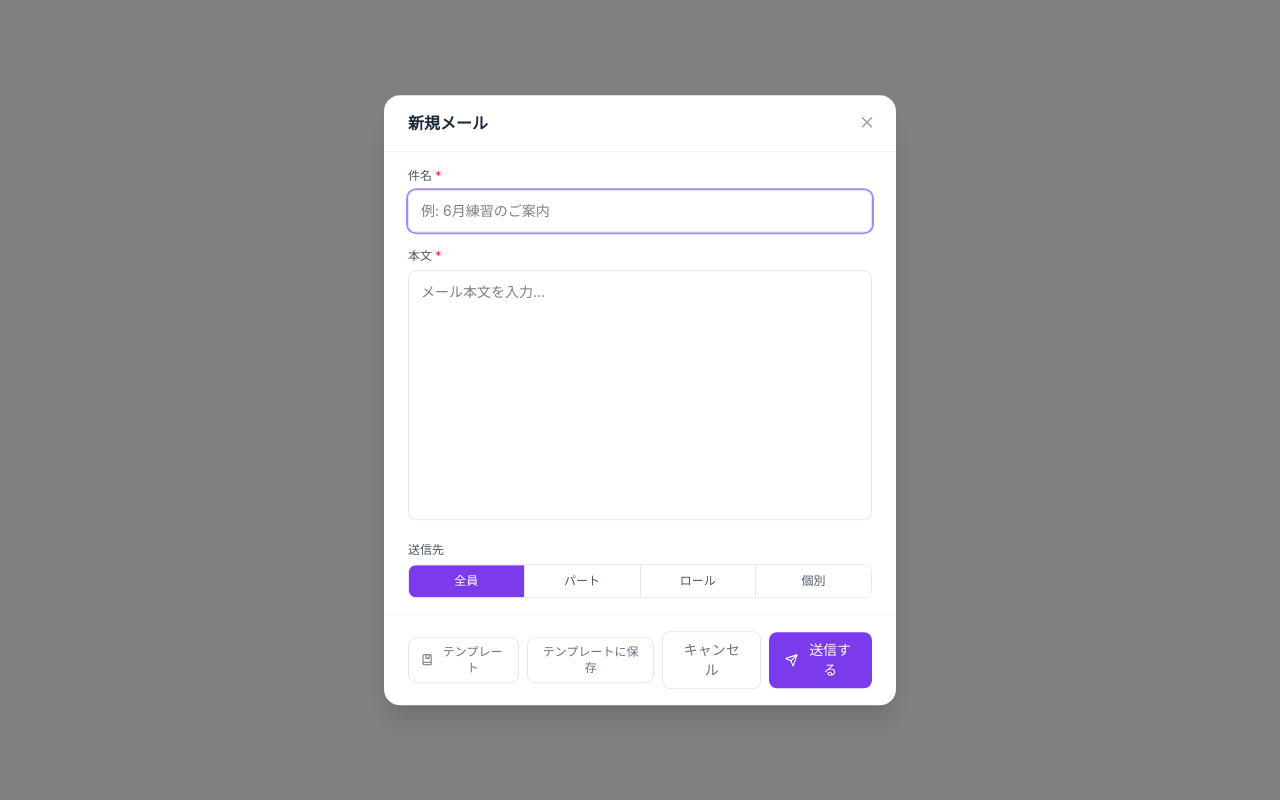
Test case: ComposeModal（テンプレートパネル） › 「テンプレート」ボタンクリックでパネルを開閉する
Click the button "テンプレート": (464, 660) [408, 637, 519, 683]
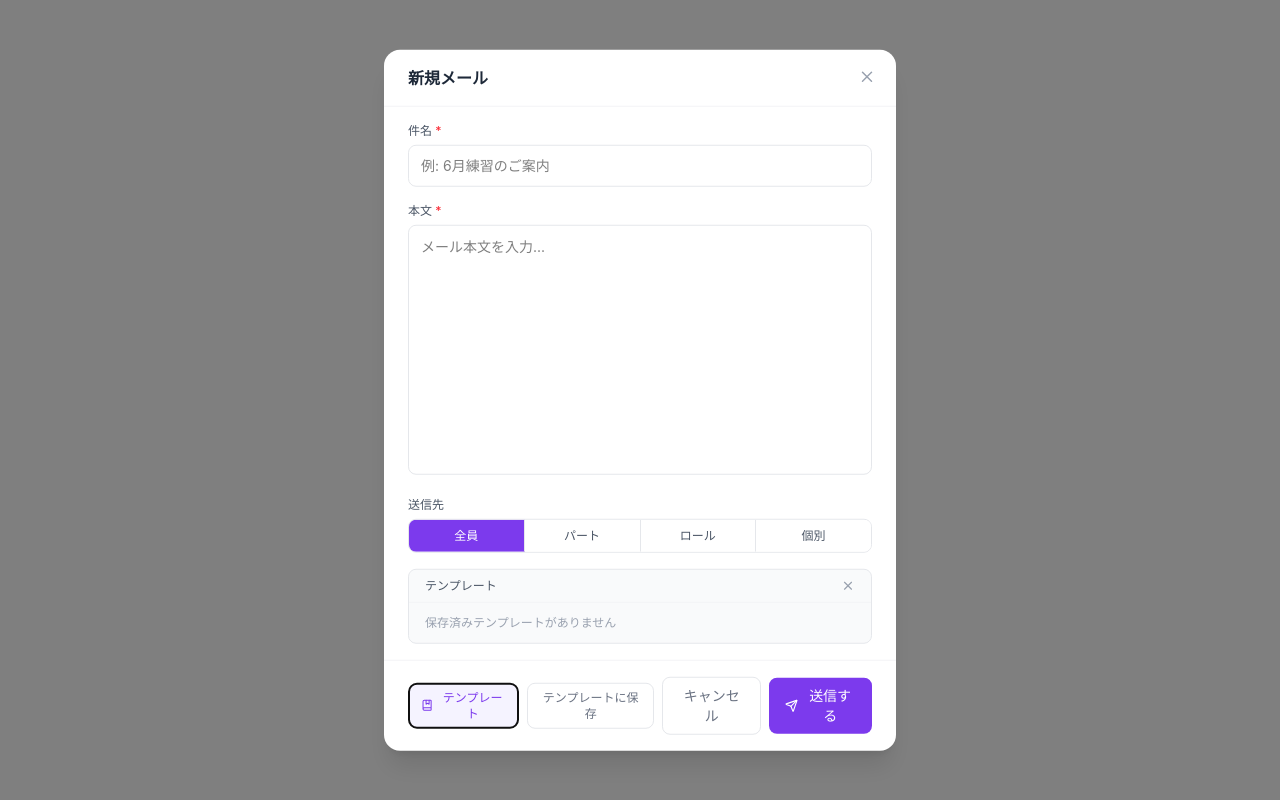
Check: the text "保存済みテンプレートがありません" is shown, box [425, 614, 616, 629]
Click the button named "テンプレートパネルを閉じる": (848, 585) [841, 578, 855, 592]
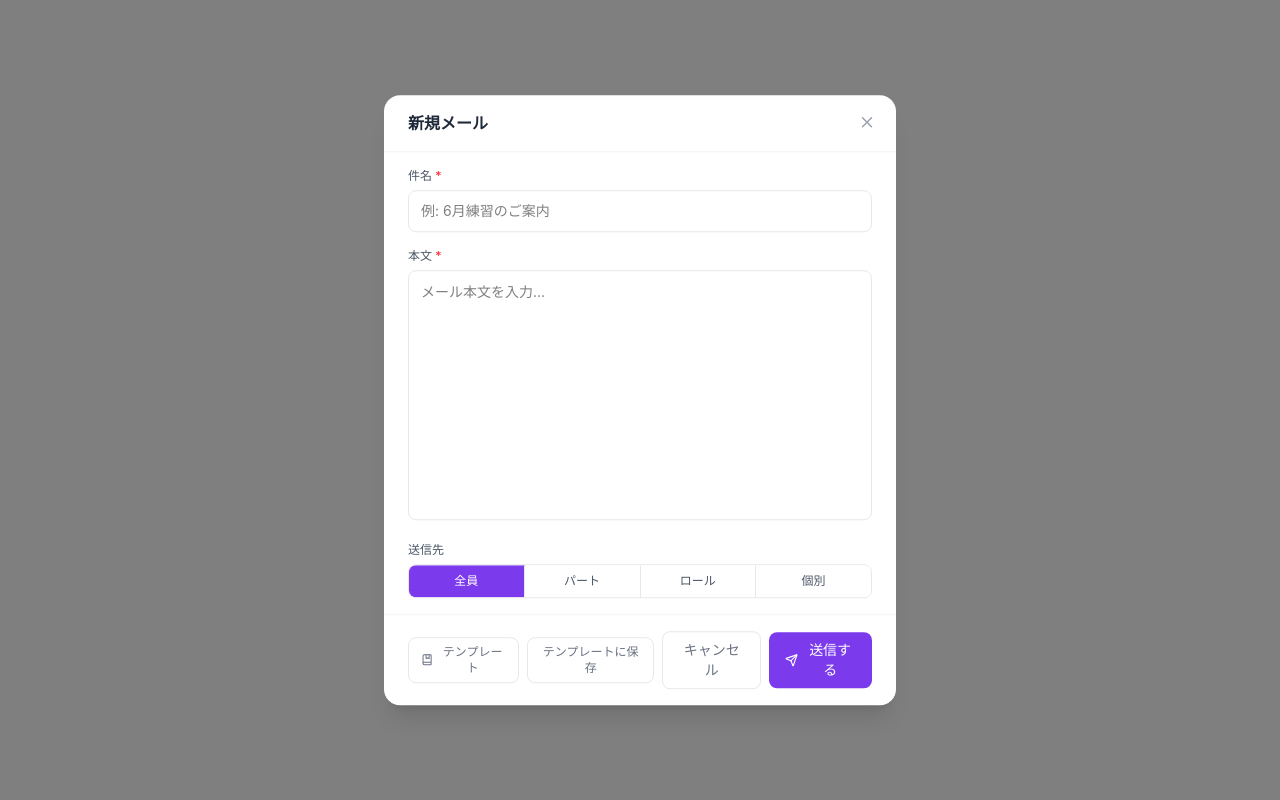
Check: the text "保存済みテンプレートがありません" is gone
